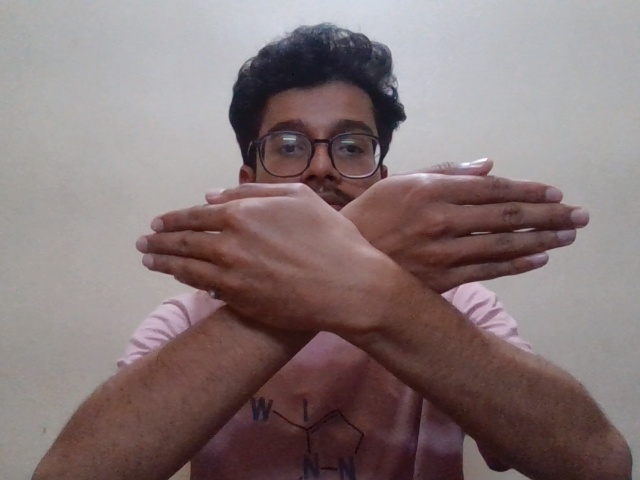feel: (131, 158, 599, 384)
